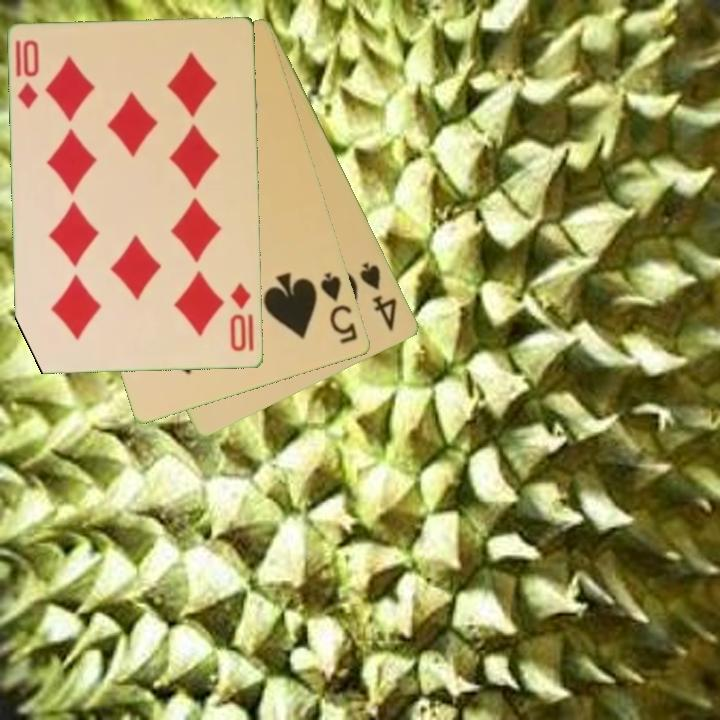10d: (227, 279, 257, 355), (14, 37, 42, 113)
4s: (356, 258, 401, 335)
5s: (317, 268, 361, 347)
